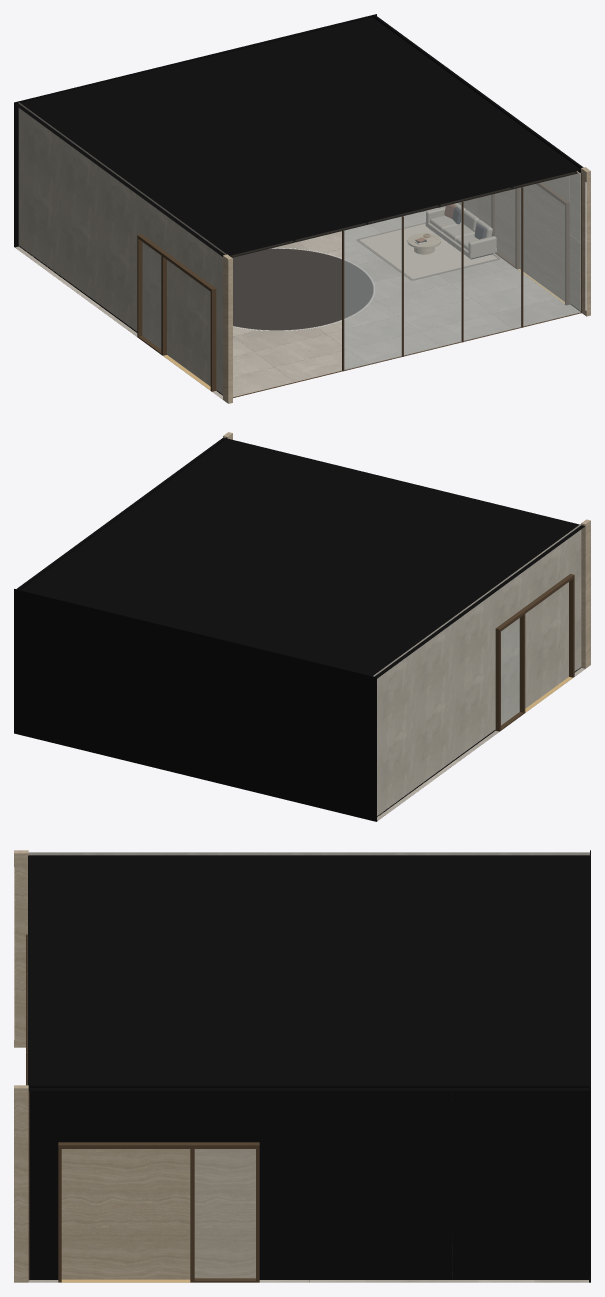
File: room_car.glb
3 views of the same model, one above another, from view 1: azimuth 30°, elevation 25°; view 2: azimuth 150°, elevation 25°; view 3: azimuth 270°, elevation 25° (orthographic). The views are drawn at different scales.
Parts seen in each view (by area): view 1: MTG_Reveals, MTG_Glass_Vitrine, MTG_Walls, MTG_Floor, MTG_Stage, MTG_PortalFill_L, MTG_PortalFill_R, MTG_Rug, MTG_Sofa, MTG_Glass_PortalL, MTG_Pier_-1, MTG_Pier_1 (+5 smaller); view 2: MTG_Reveals, MTG_Walls, MTG_PortalFill_L, MTG_Glass_PortalL, MTG_Pier_-1, MTG_PortalL_Mull, MTG_Floor, MTG_PortalL_JambA, MTG_PortalL_Head, MTG_PortalL_JambB; view 3: MTG_Reveals, MTG_PortalFill_R, MTG_Glass_PortalR, MTG_Pier_1, MTG_Pier_-1, MTG_Walls, MTG_PortalR_Head, MTG_Floor, MTG_PortalR_Mull.
Part boxes in pixels (x1=…): MTG_Reveals: x1=14, y1=14, x2=583, y2=395; MTG_Glass_Vitrine: x1=344, y1=173, x2=580, y2=369; MTG_Walls: x1=18, y1=102, x2=580, y2=395; MTG_Floor: x1=15, y1=208, x2=579, y2=399; MTG_Stage: x1=233, y1=248, x2=373, y2=330; MTG_PortalFill_L: x1=142, y1=242, x2=210, y2=386; MTG_PortalFill_R: x1=495, y1=184, x2=564, y2=301; MTG_Rug: x1=360, y1=224, x2=496, y2=278; MTG_Sofa: x1=425, y1=203, x2=496, y2=259; MTG_Glass_PortalL: x1=142, y1=242, x2=160, y2=348; MTG_Pier_-1: x1=223, y1=254, x2=232, y2=403; MTG_Pier_1: x1=581, y1=167, x2=590, y2=316; MTG_Reveals: x1=14, y1=437, x2=584, y2=821; MTG_Walls: x1=373, y1=524, x2=581, y2=816; MTG_PortalFill_L: x1=501, y1=582, x2=568, y2=725; MTG_Glass_PortalL: x1=501, y1=618, x2=519, y2=724; MTG_Pier_-1: x1=581, y1=519, x2=590, y2=668; MTG_PortalL_Mull: x1=519, y1=614, x2=525, y2=713; MTG_Floor: x1=377, y1=668, x2=584, y2=820; MTG_PortalL_JambA: x1=495, y1=631, x2=500, y2=731; MTG_PortalL_Head: x1=495, y1=574, x2=574, y2=632; MTG_PortalL_JambB: x1=569, y1=578, x2=574, y2=677; MTG_Reveals: x1=28, y1=850, x2=590, y2=1282; MTG_PortalFill_R: x1=61, y1=1149, x2=255, y2=1279; MTG_Glass_PortalR: x1=195, y1=1149, x2=255, y2=1277; MTG_Pier_1: x1=14, y1=1085, x2=28, y2=1282; MTG_Pier_-1: x1=14, y1=850, x2=28, y2=1047; MTG_Walls: x1=28, y1=853, x2=589, y2=855; MTG_PortalR_Head: x1=58, y1=1142, x2=259, y2=1148; MTG_Floor: x1=28, y1=1280, x2=588, y2=1282; MTG_PortalR_Mull: x1=190, y1=1149, x2=194, y2=1282.
Size of the model in its own units: 13 by 4.95 by 13.32.
Materials: 37 (12 with a texture image).
